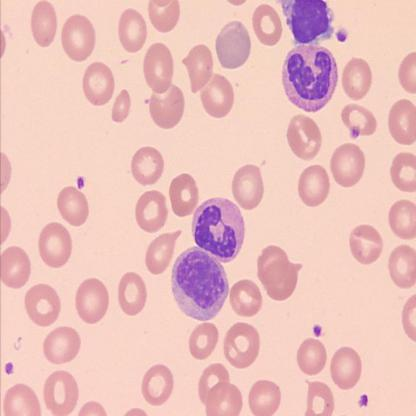Metamyelocyte: (168, 242, 230, 323)
